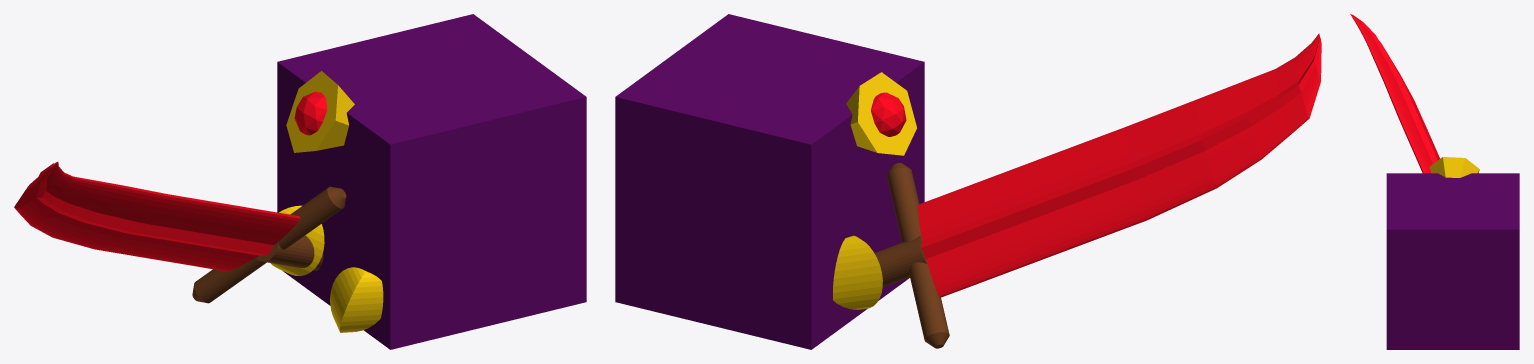
The model's file is NoMercy_Enemy_Melee.glb.
3 renders of one model, left to right at view 1: azimuth 30°, elevation 25°; view 2: azimuth 150°, elevation 25°; view 3: azimuth 270°, elevation 25°, orthographic. The views are drawn at different scales.
Visible parts, largest first — view 1: Cube, Cylinder.002, Icosphere, Sphere.001, Sphere; view 2: Cube, Cylinder.002, Icosphere, Sphere; view 3: Cube, Cylinder.002, Icosphere.
Boxes of the visible parts, x1,y1,x2,y2 form: Cube: (277, 14, 586, 349); Cylinder.002: (14, 161, 346, 303); Icosphere: (286, 71, 354, 152); Sphere.001: (330, 267, 383, 332); Sphere: (270, 205, 324, 275); Cube: (615, 14, 924, 349); Cylinder.002: (874, 33, 1321, 348); Icosphere: (846, 72, 916, 155); Sphere: (833, 235, 882, 309); Cube: (1386, 173, 1519, 349); Cylinder.002: (1350, 14, 1439, 173); Icosphere: (1429, 157, 1479, 177).
Bounding box in the file's own units: 2.46 × 1.22 × 1.07.
